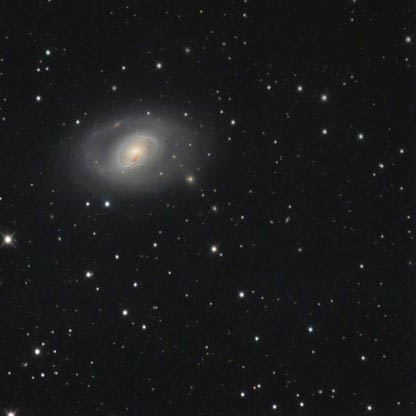Messier 96: (48, 105, 218, 208)
